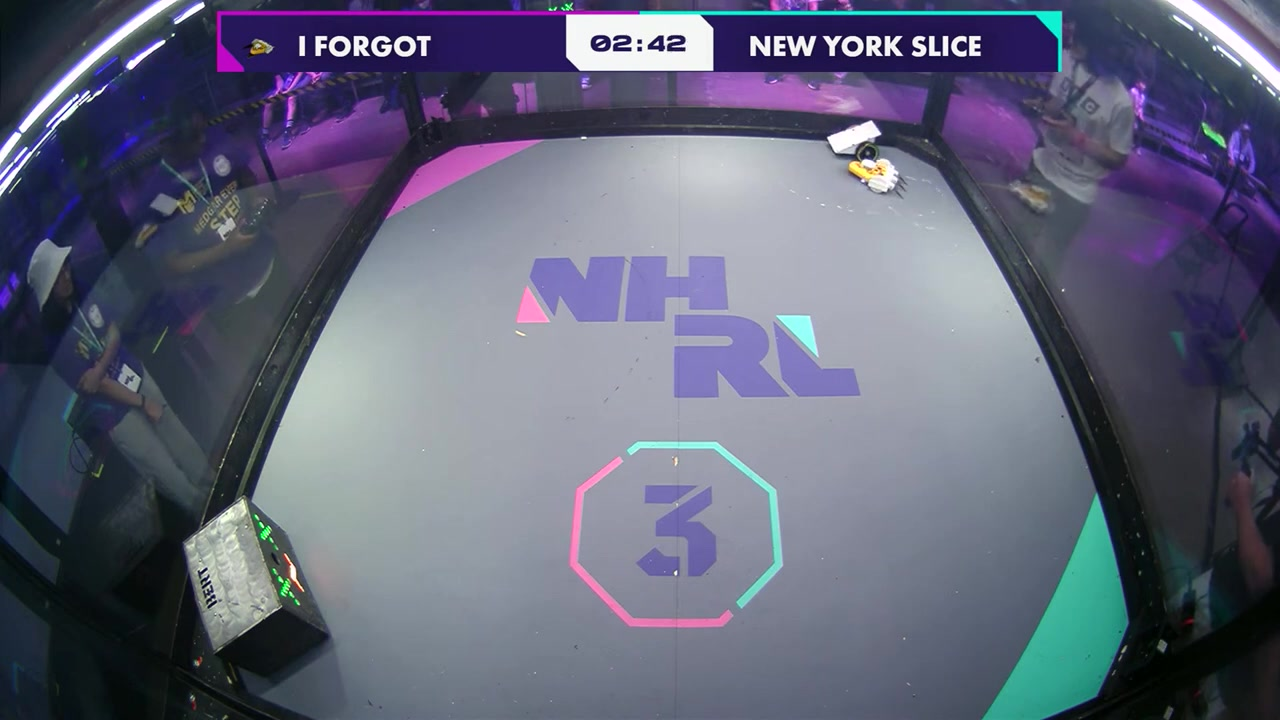combatbot: (845, 152, 908, 197), (825, 120, 881, 157)
housebot: (183, 498, 328, 679)
